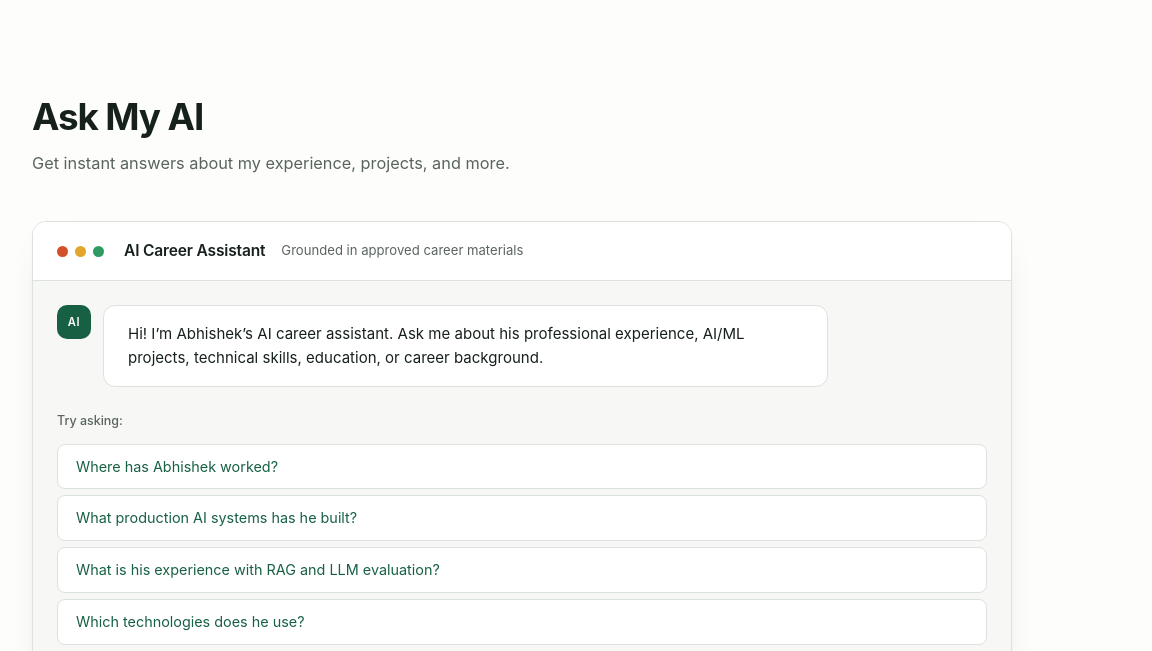
Scenario: AI career assistant › renders an abstention notice when the assistant abstains
Click the button "Where has Abhishek worked?" at (177, 466), box [57,444,987,489]
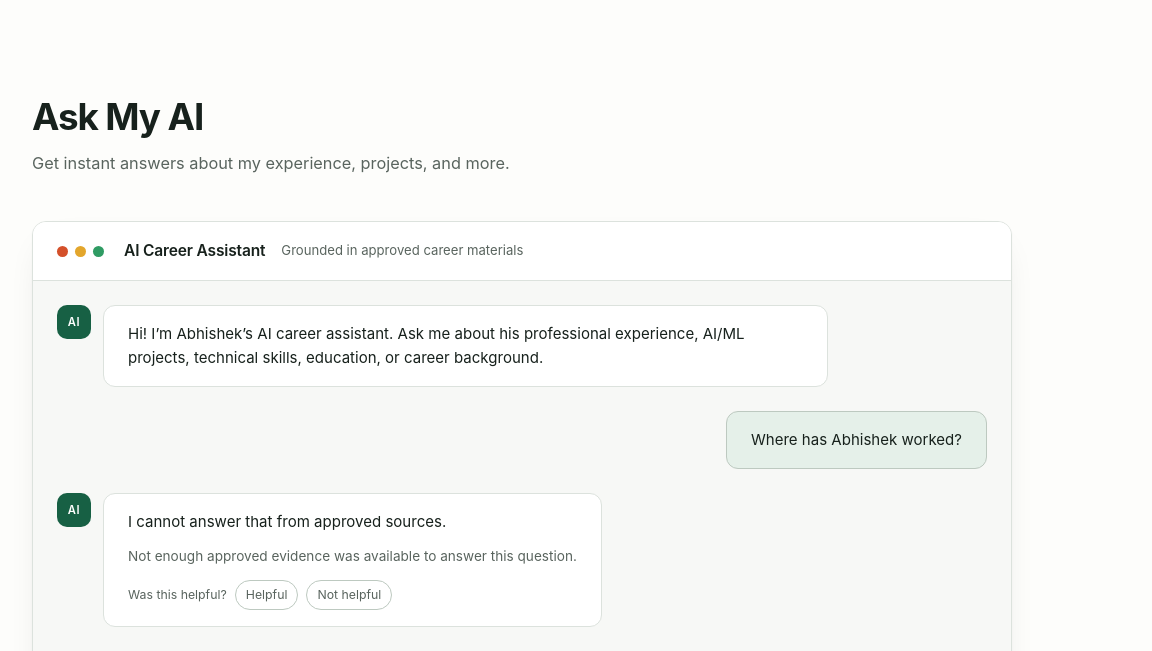
Now the text "Not enough approved evidence was available" is shown, box [128,548,577,564]
